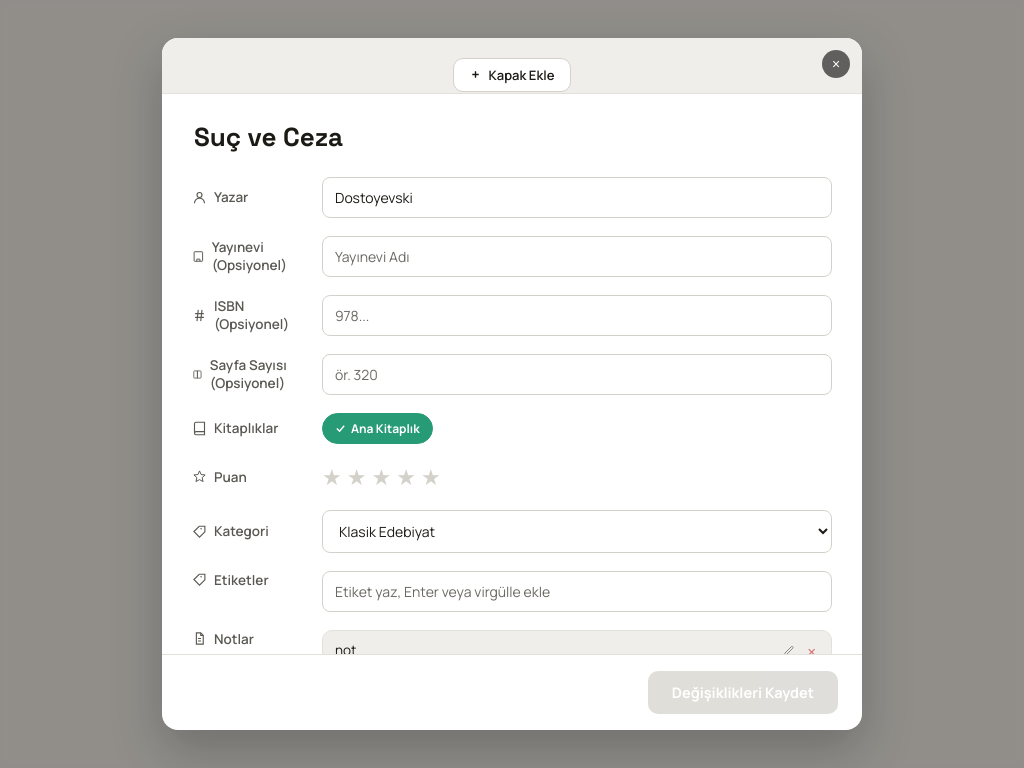
Test case: BookModal notes › enables the Save button on a note change alone, with nothing else edited
expect the button "Değişiklikleri Kaydet" is disabled: met, box [648,671,838,714]
Click the button named "Notu sil" at coordinates (812, 651), box [804,641,819,662]
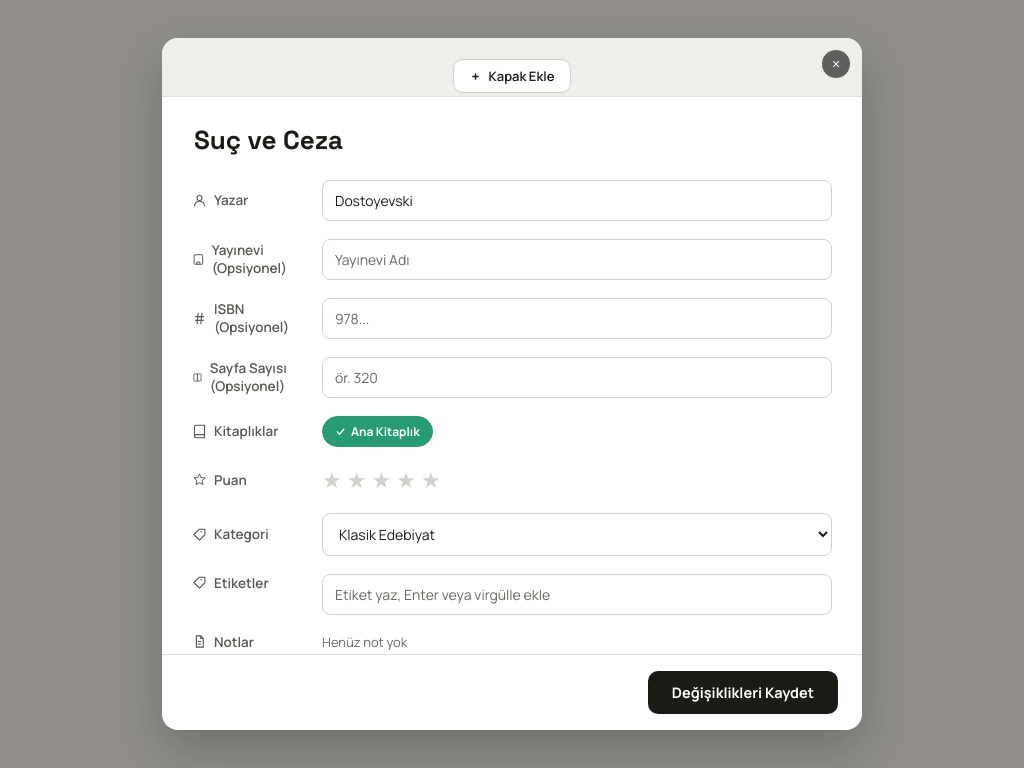
expect the button "Değişiklikleri Kaydet" is enabled: met, box [648,671,838,714]
